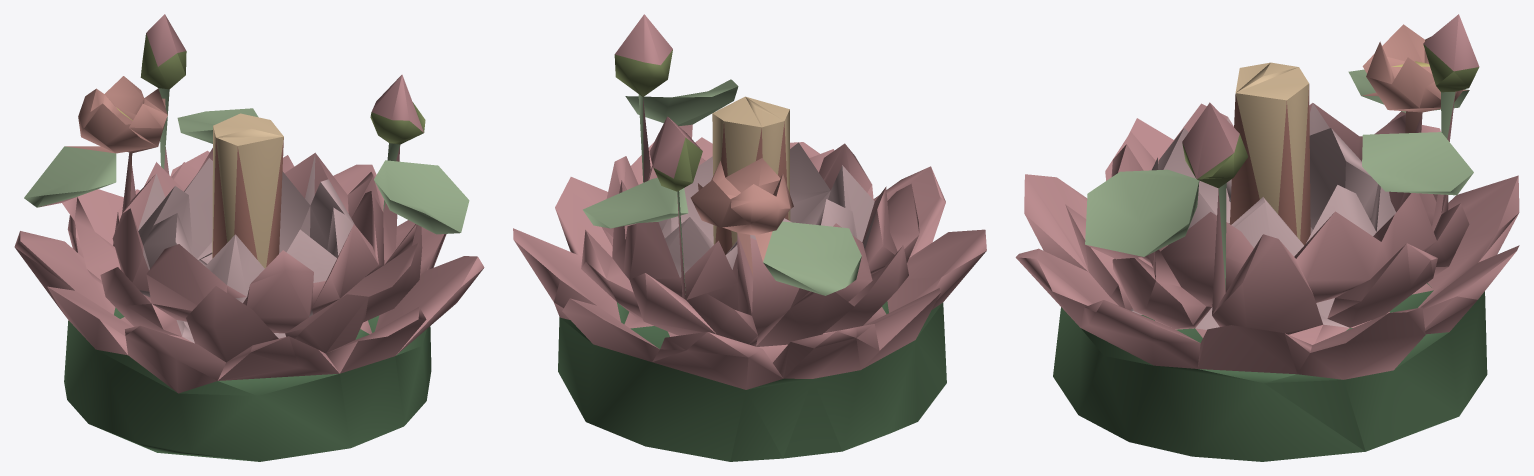
Rendered from lotus_bud_01.medium.glb.
The picture shows the model from 3 angles, left to right: view 1: azimuth 30°, elevation 25°; view 2: azimuth 150°, elevation 25°; view 3: azimuth 270°, elevation 25°; orthographic projection. The views are drawn at different scales.
Bounding box in the file's own units: 2.11 × 1.69 × 2.1.
